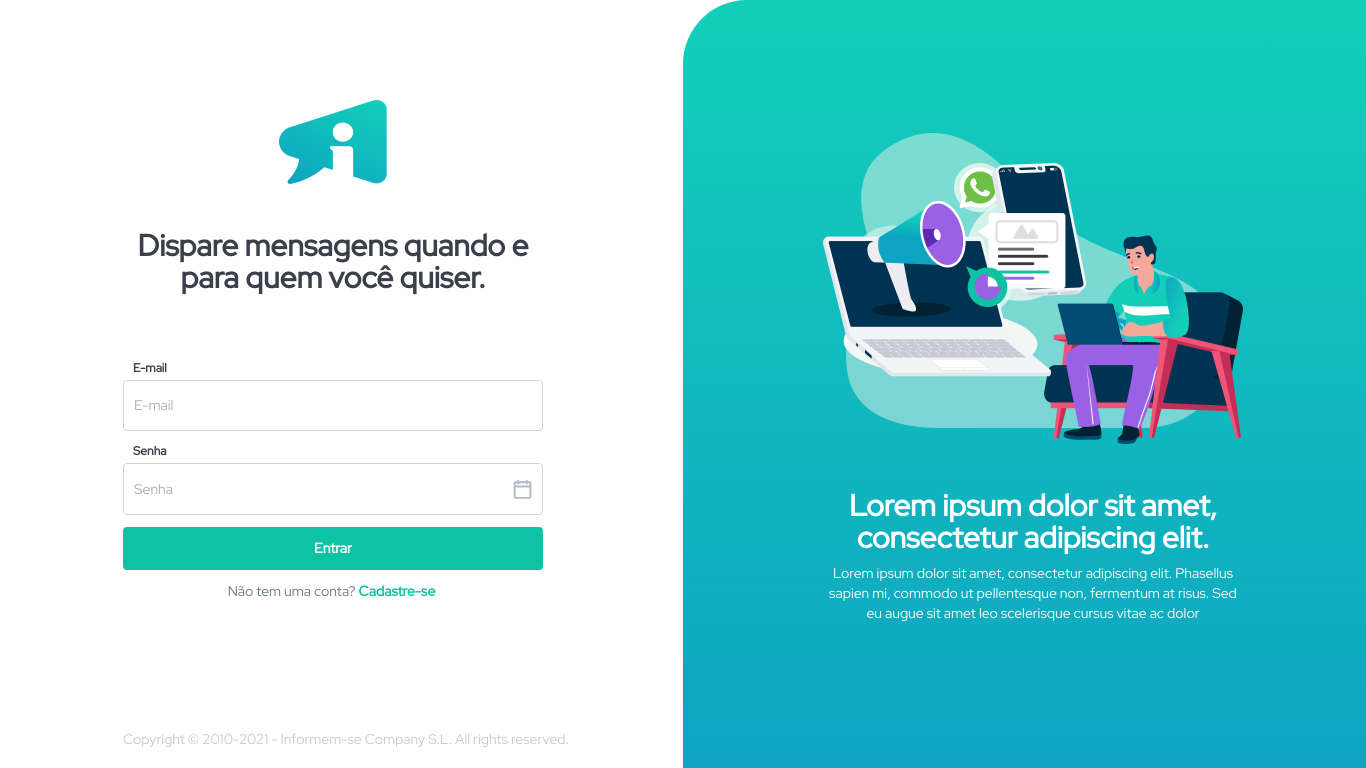
Test: 01 - login › login attempts should fail › empty email field and filled password field
Type "teste@gmail.com" into the field with placeholder "E-mail" at point(333, 406), box 134,391 -> 532,421
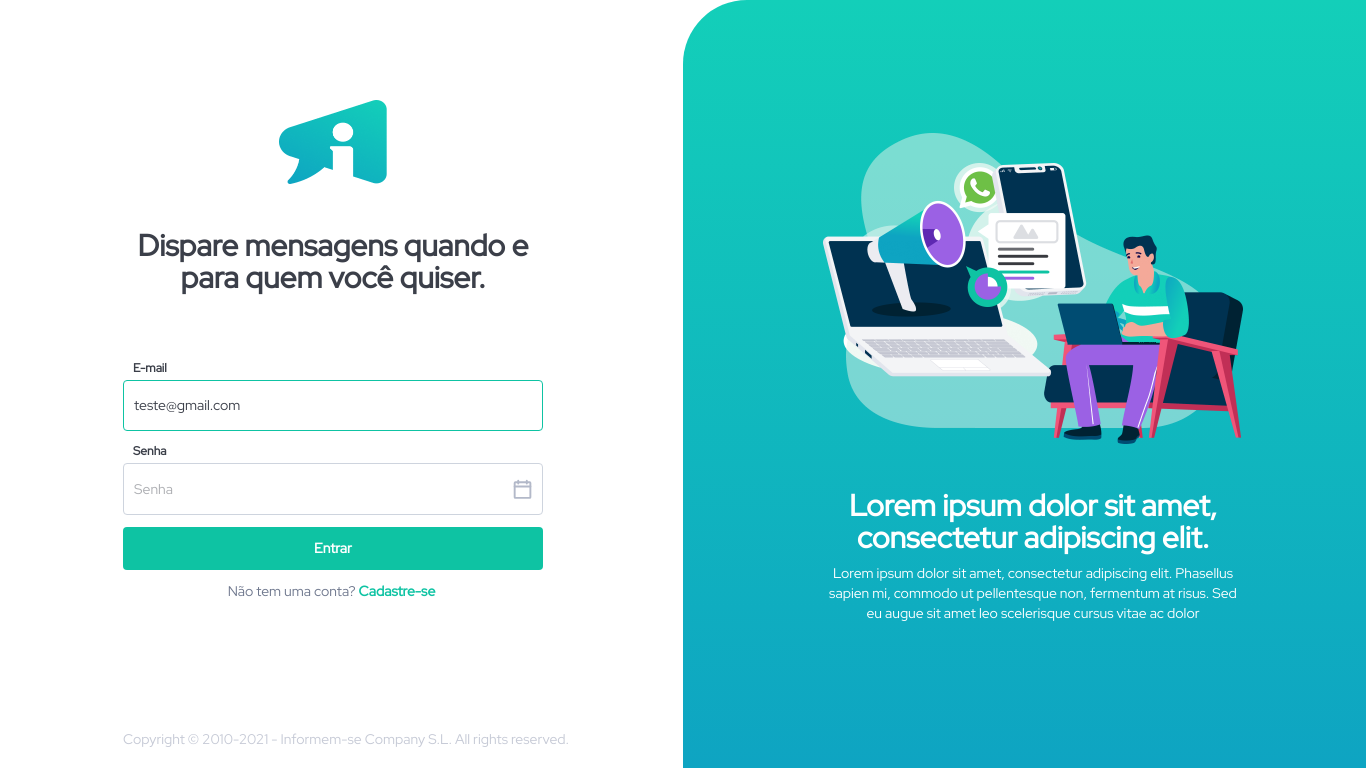
Click the button "Entrar" at point(333, 549), box 123,527 -> 543,570
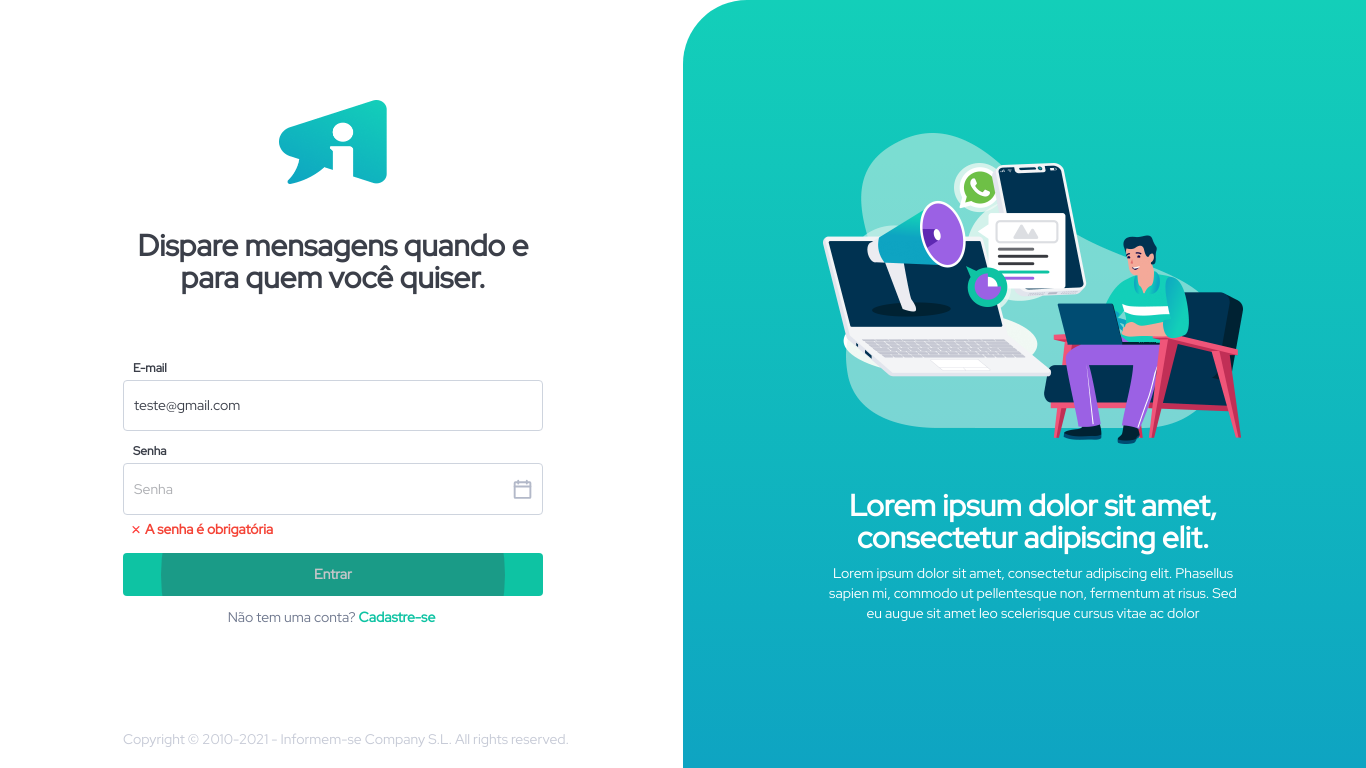
expect the text "A senha é obrigatória" is shown: met, box 145,518 -> 273,541
